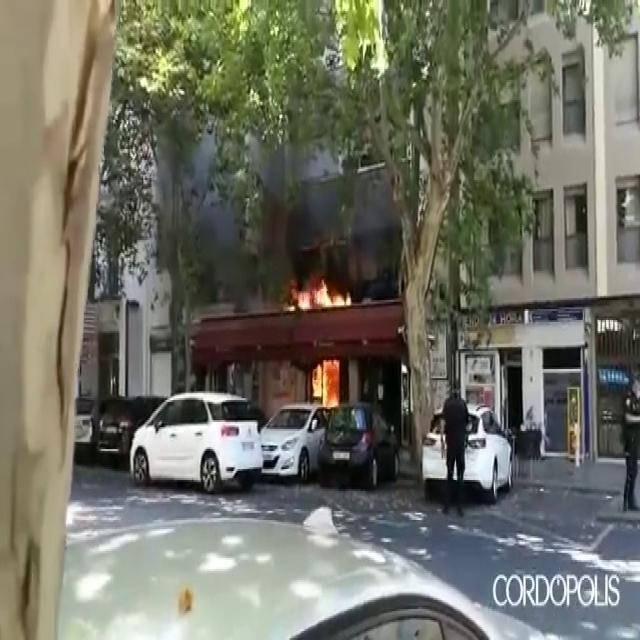Fire: (286, 270, 354, 318), (307, 352, 346, 412)
